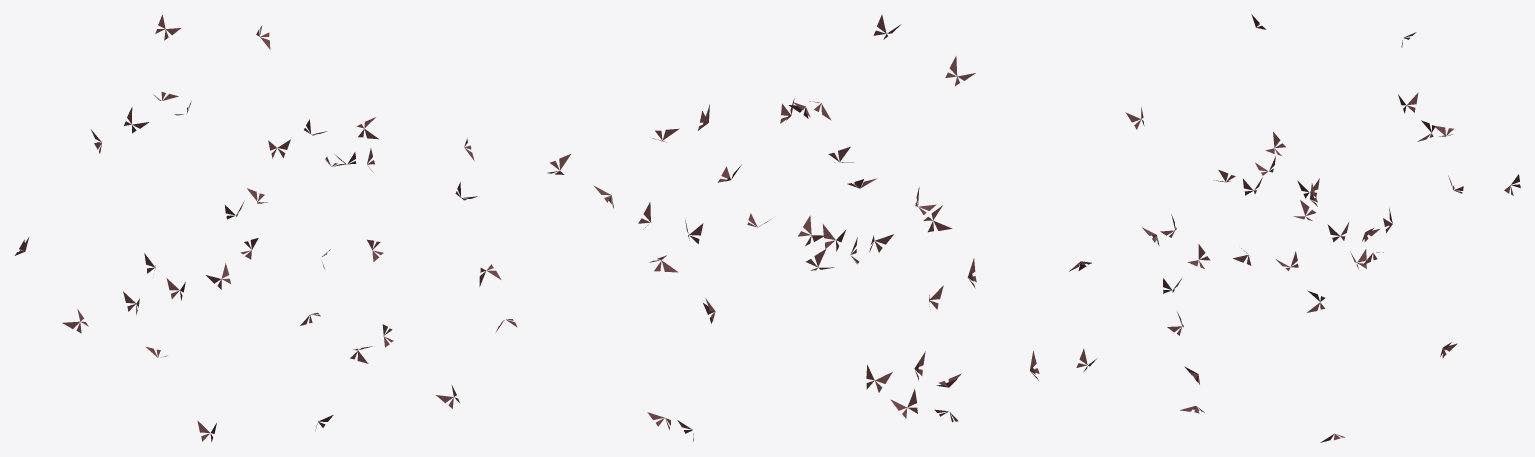
3 views of the same model, side by side, from view 1: azimuth 30°, elevation 25°; view 2: azimuth 150°, elevation 25°; view 3: azimuth 270°, elevation 25° (orthographic). The views are drawn at different scales.
Parts seen in each view (by area): view 1: mesh00; view 2: mesh00; view 3: mesh00.
Boxes of the visible parts, <box> form: mesh00: <box>14,14,517,441</box>; mesh00: <box>547,14,1039,441</box>; mesh00: <box>1069,14,1520,442</box>.
Size of the model in its own units: 38.06 by 32.76 by 39.77.
